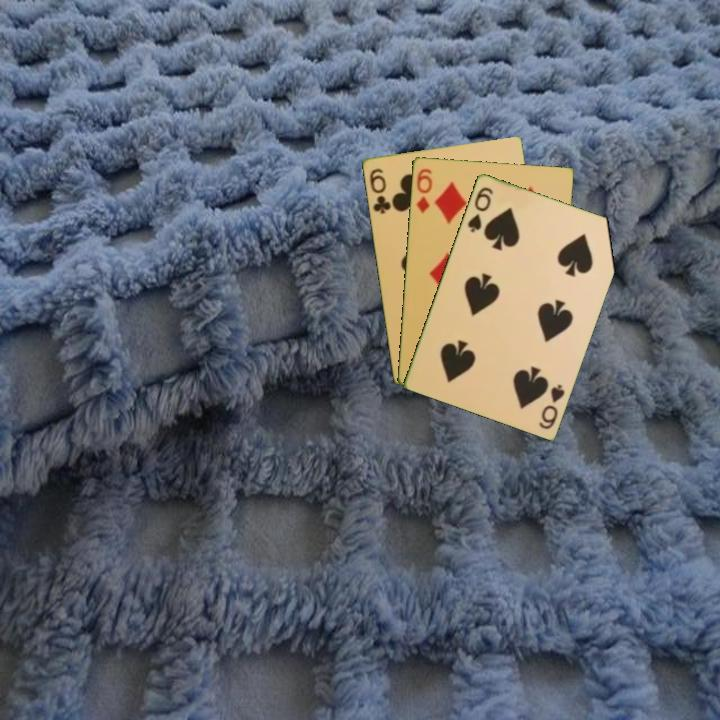6c: (366, 164, 393, 217)
6d: (412, 164, 435, 216)
6s: (464, 183, 496, 235), (535, 380, 567, 432)
